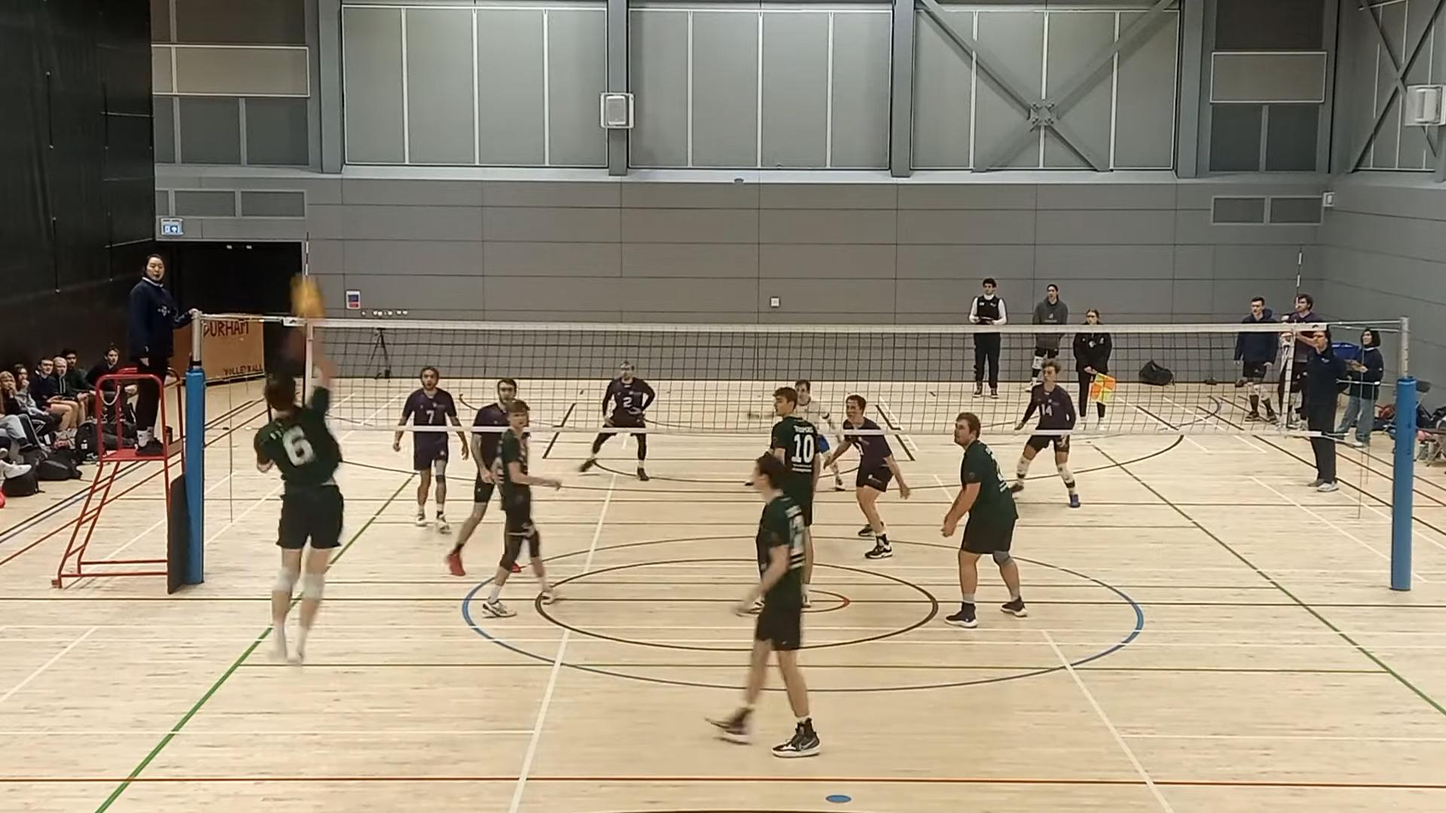Player: (710, 454, 819, 757), (941, 412, 1027, 627), (482, 399, 560, 617), (446, 378, 517, 576), (770, 387, 821, 606), (825, 434, 910, 559), (1011, 361, 1079, 507), (413, 431, 450, 532), (602, 362, 655, 429), (795, 379, 840, 454)
Serve: (250, 324, 348, 674)
